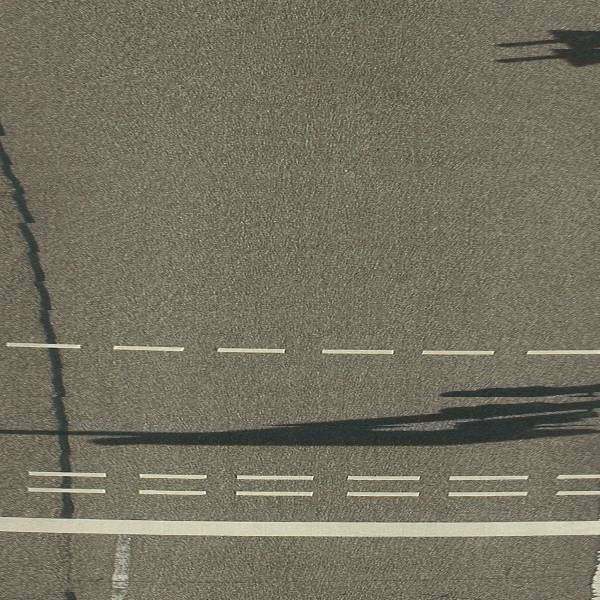road_damage: (1, 141, 59, 337)
